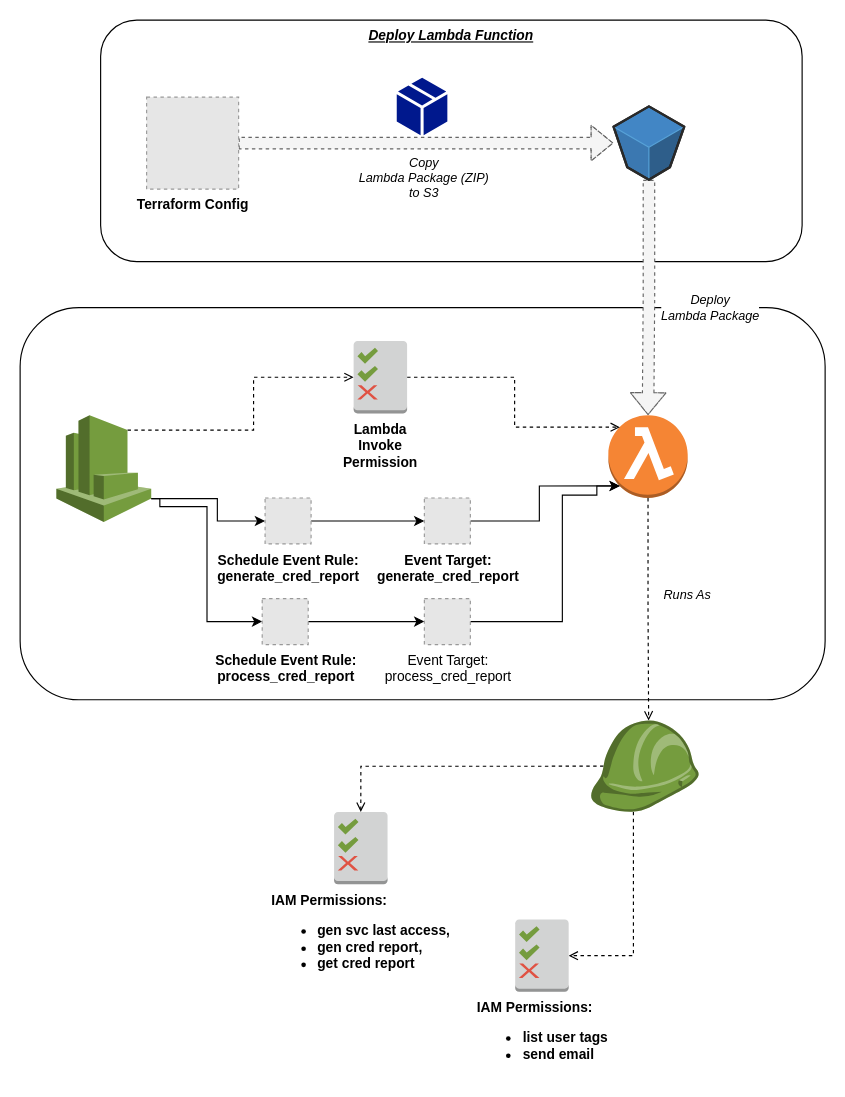
Image size: 845x1097. Some labels were removed from this diagram. Grey dashed boxes stand in for pictures. Each missing label, with the box of its shape:
CloudWatch Events: (55, 414, 151, 522)
IAM Role: IAMNagBot_Lambda_Role: (589, 719, 699, 812)
Lambda Function: iamnagbot: (607, 414, 688, 498)
S3 Bucket: deploy_s3_bucket: (612, 105, 684, 180)
Scheduled Runtime Operation: (19, 306, 825, 700)
